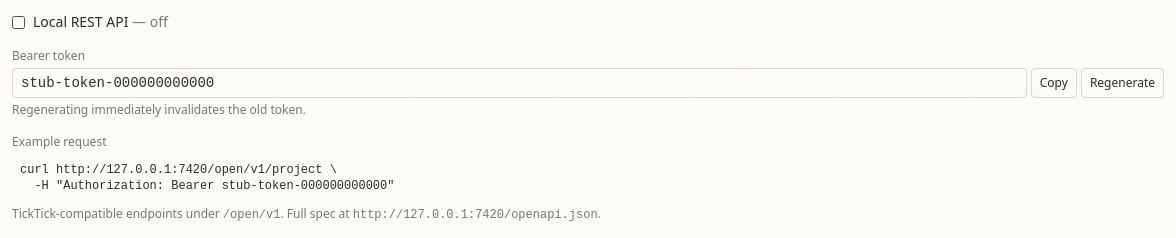
Test case: ApiSettings › shows the token, toggles enabled, and regenerates the token
Step 1. Click the switch with test id "api-enable-toggle" → (18, 22), box [12,16,25,28]
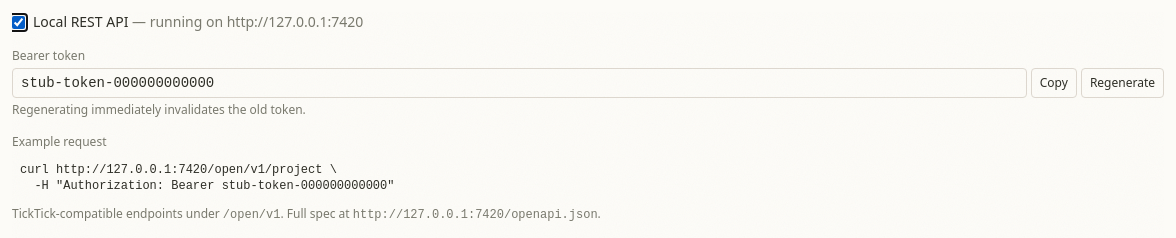
Now the switch with test id "api-enable-toggle" is checked, box [12,16,25,28]
Note: Regenerate mints a different token.
Step 2. Click the button with test id "api-regenerate" → (1122, 83), box [1081,68,1164,98]
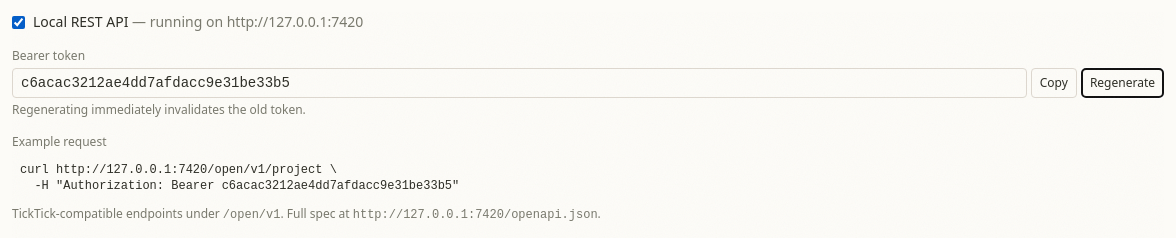
Now the field with test id "api-token" does not hold "stub-token-000000000000", box [12,68,1027,98]
